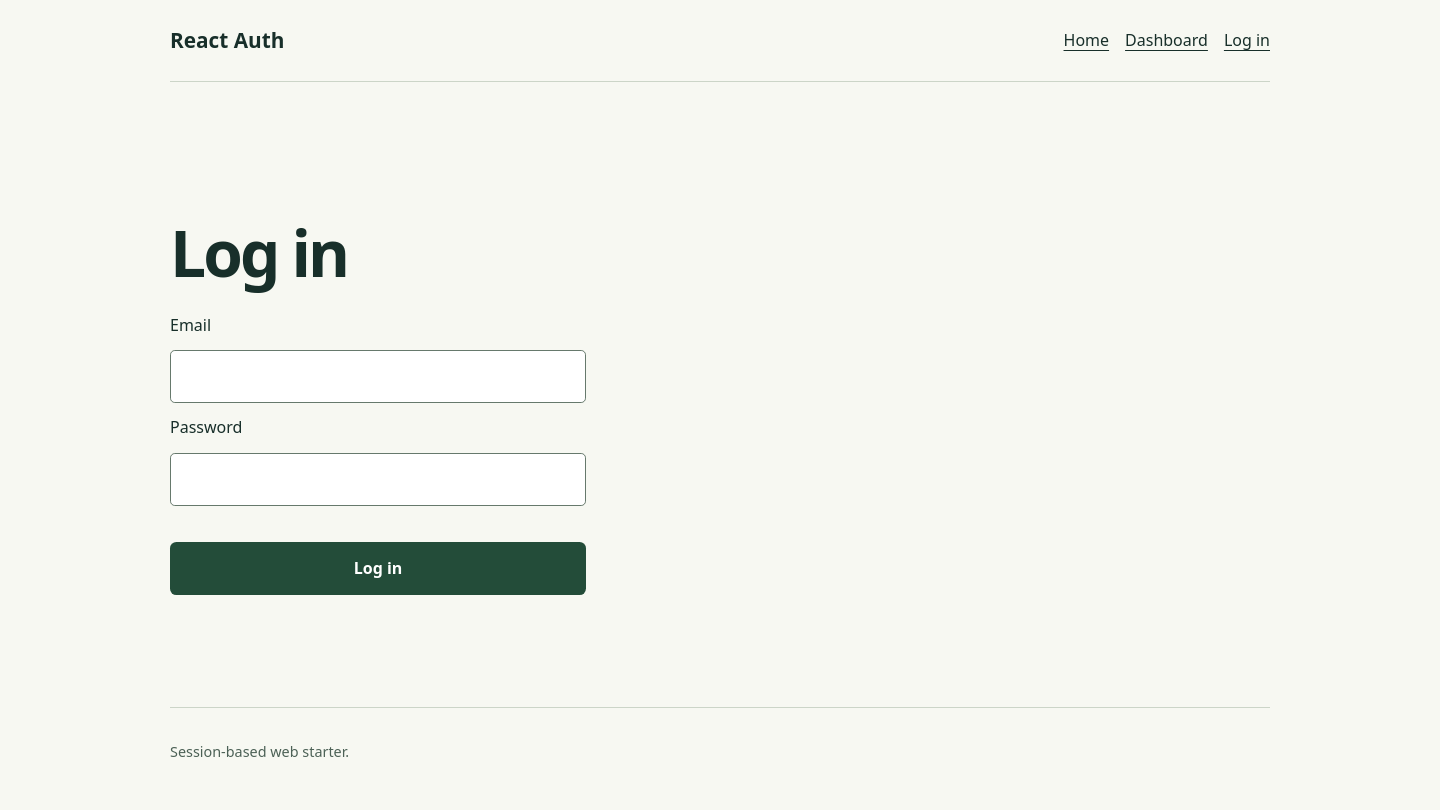
Scenario: shows a credential error without opening the dashboard
Type "owner@example.com" into the field labelled "Email" at (378, 377), box [170,350,586,404]
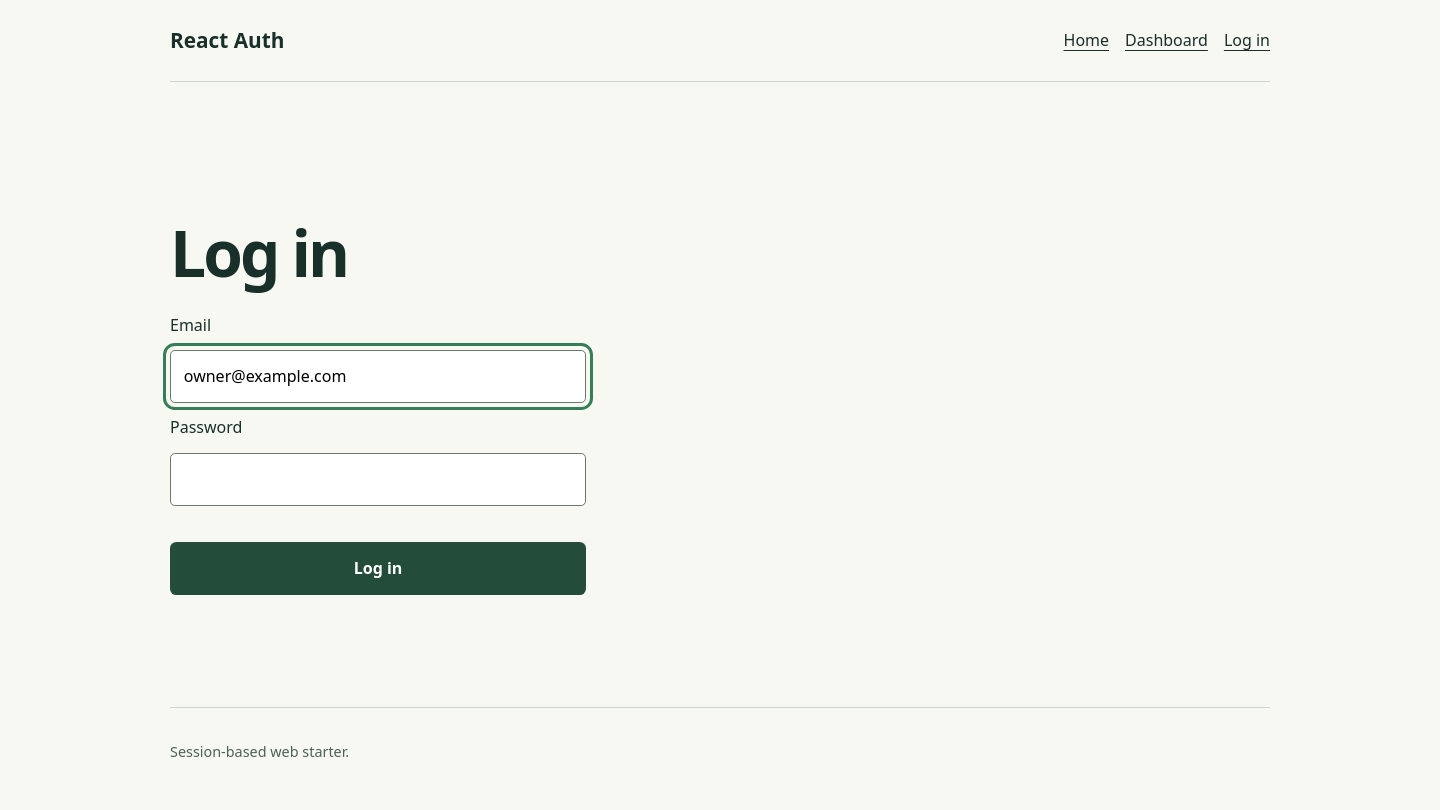
Type "wrong-password" into the password field labelled "Password" at (378, 480), box [170,453,586,506]
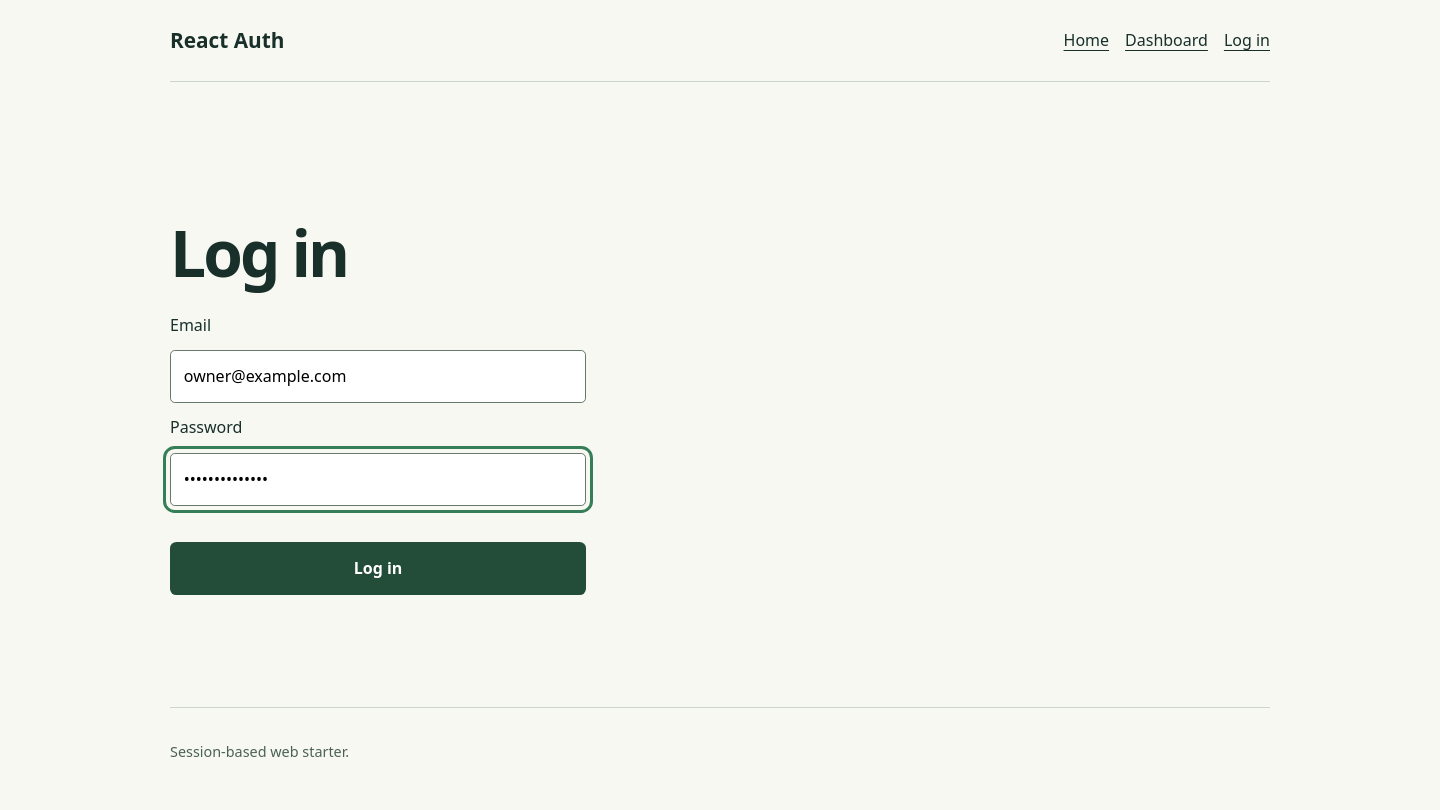
Click the button "Log in" at (378, 569), box [170,542,586,595]
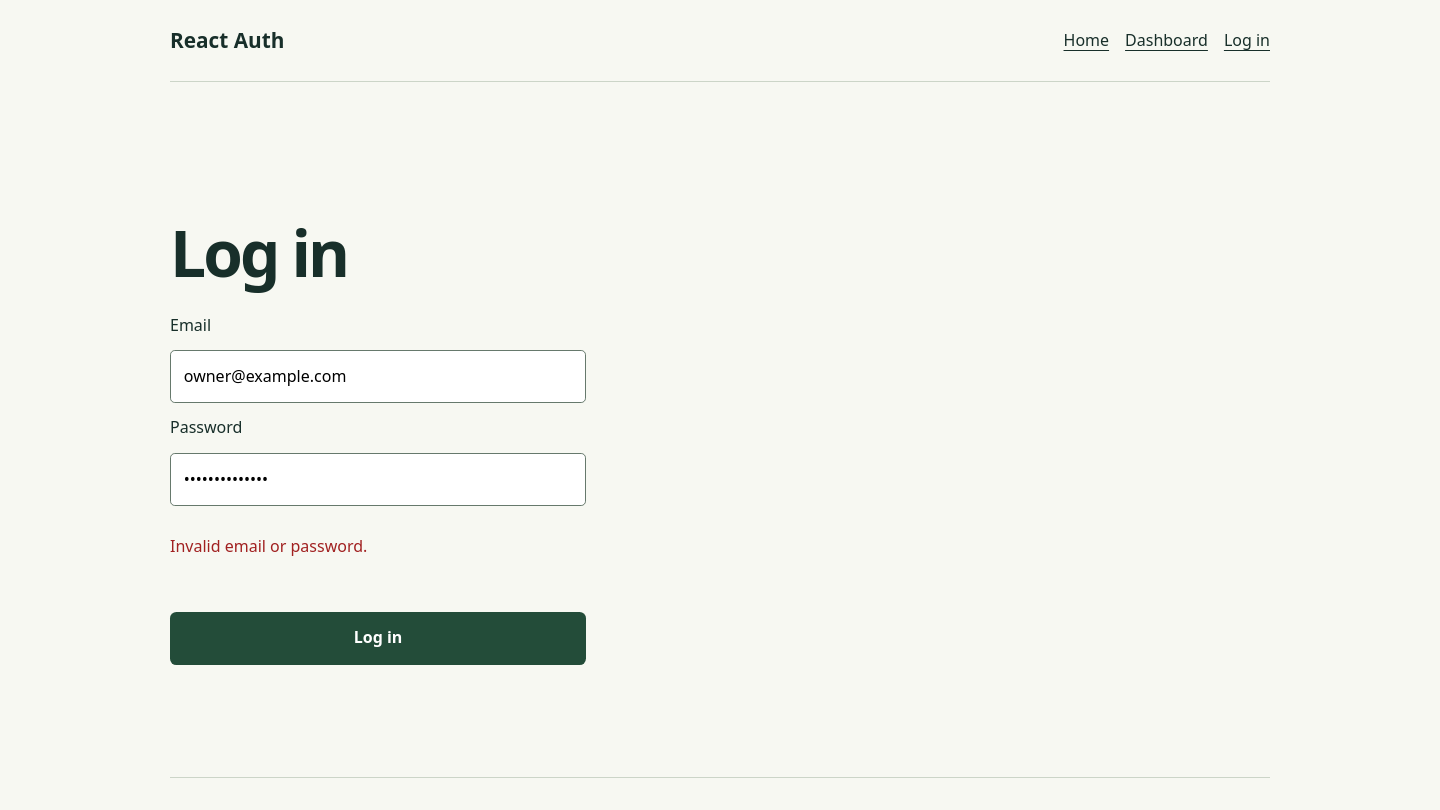
Now the message reads "Invalid email or password.", box [170,535,367,557]
